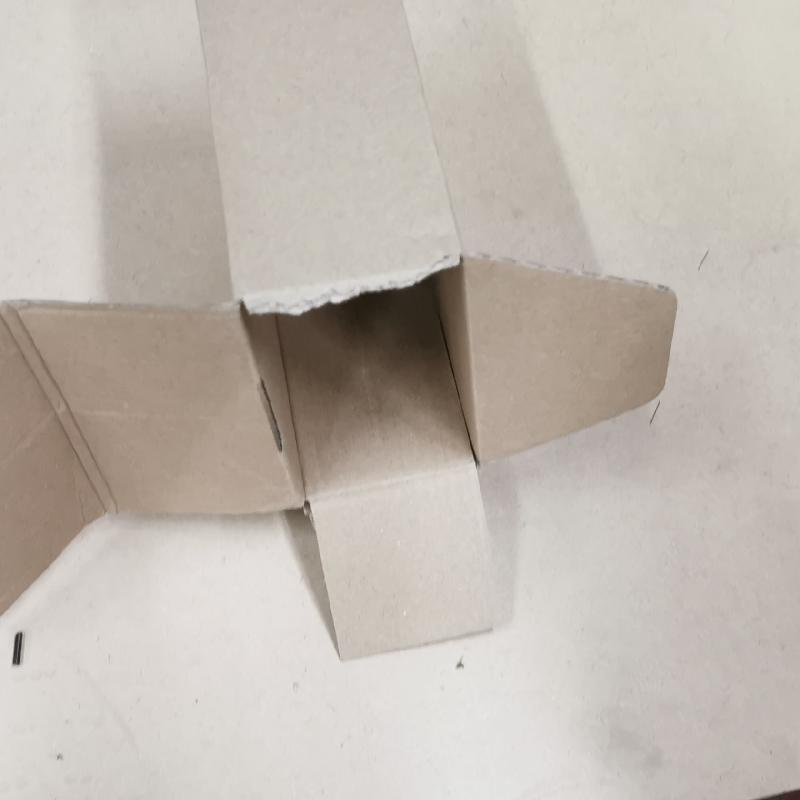boxes: (3, 6, 693, 668)
